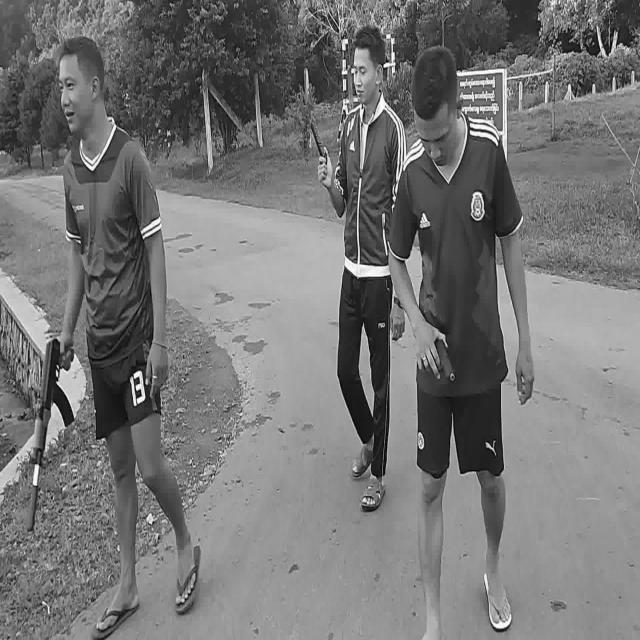gun: (29, 339, 74, 533), (435, 341, 454, 381)
